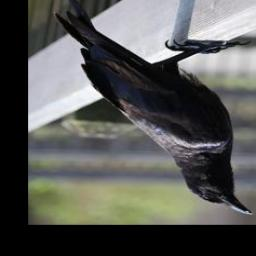Crow: (52, 0, 253, 216)
